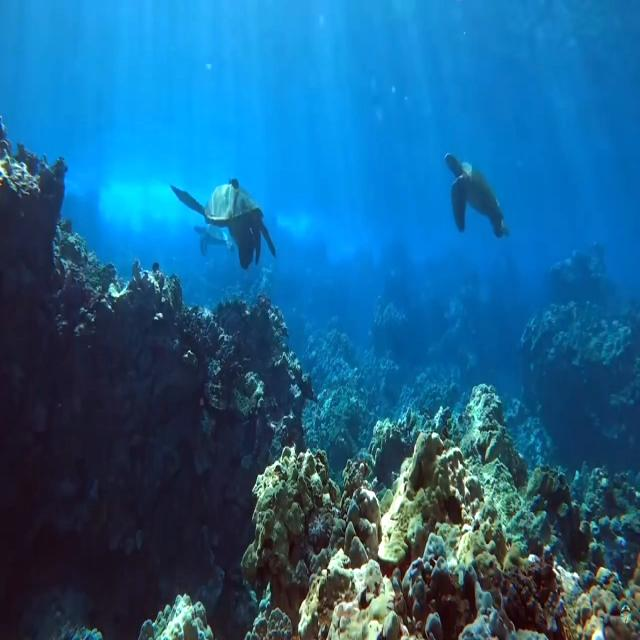Sea turtle: (171, 176, 279, 268), (443, 145, 511, 245)
